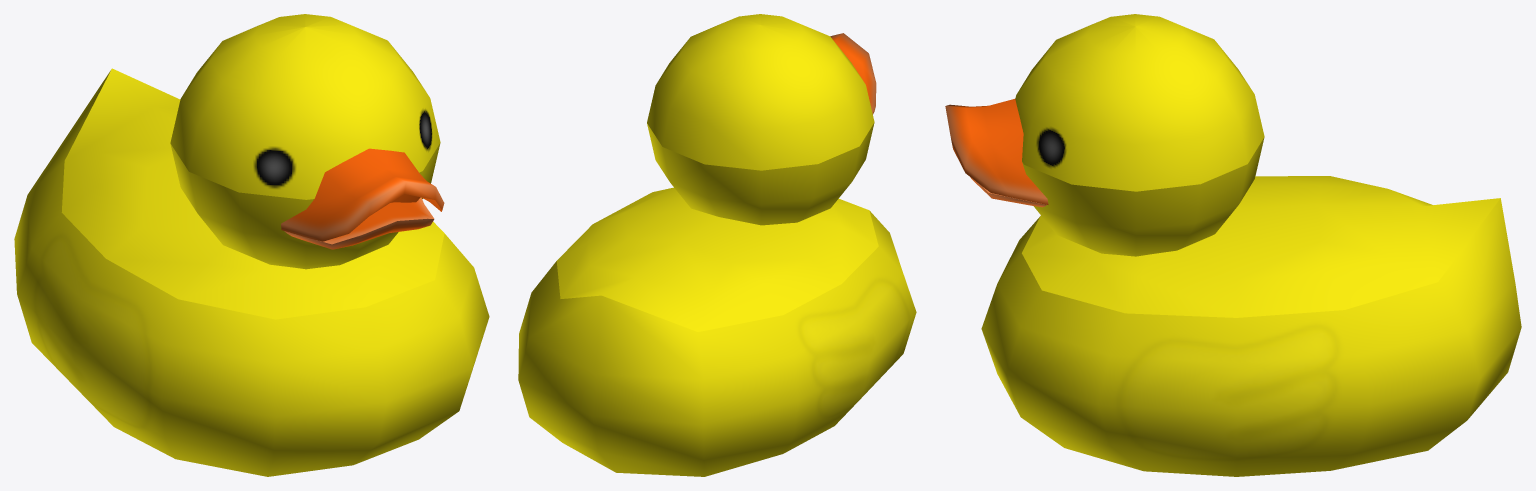
File: duck.glb
3 views of the same model, side by side, from view 1: azimuth 30°, elevation 25°; view 2: azimuth 150°, elevation 25°; view 3: azimuth 270°, elevation 25° (orthographic). The views are drawn at different scales.
Visible parts, largest first — view 1: Part1; view 2: Part1; view 3: Part1.
Boxes of the visible parts, x1,y1,x2,y2 form: Part1: [14, 14, 489, 476]; Part1: [518, 14, 916, 476]; Part1: [945, 14, 1521, 476].
Size of the model in its own units: 0.972 by 1.04 by 1.4.
Materials: 1 (1 with a texture image).
